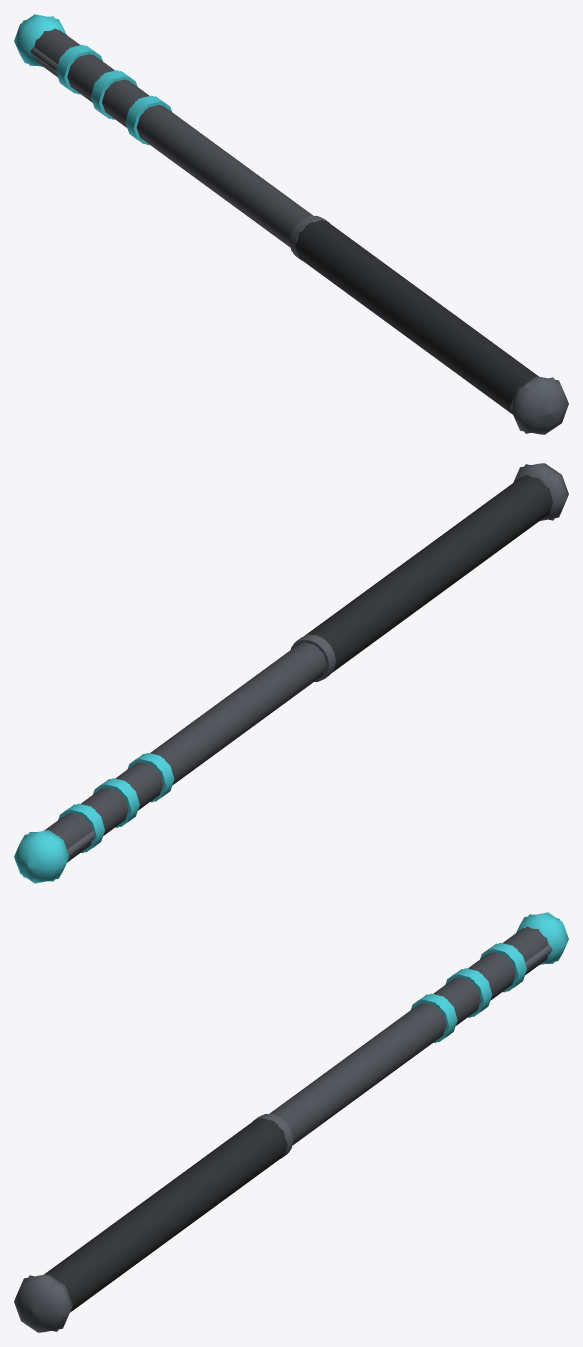
File: m_baton.glb
The picture shows the model from 3 angles, top to bottom: view 1: azimuth 30°, elevation 25°; view 2: azimuth 150°, elevation 25°; view 3: azimuth 330°, elevation 25°; orthographic projection.
Visible parts, largest first — view 1: L0, L1; view 2: L0, L1; view 3: L0, L1.
Boxes of the visible parts, left/top/right/bottom form: L0: left=14, top=14, right=568, bottom=434; L1: left=23, top=16, right=566, bottom=433; L0: left=14, top=463, right=568, bottom=883; L1: left=15, top=464, right=555, bottom=881; L0: left=14, top=912, right=568, bottom=1332; L1: left=16, top=914, right=559, bottom=1331.
Bounding box in the file's own units: 0.0459 × 0.0459 × 0.7541.
